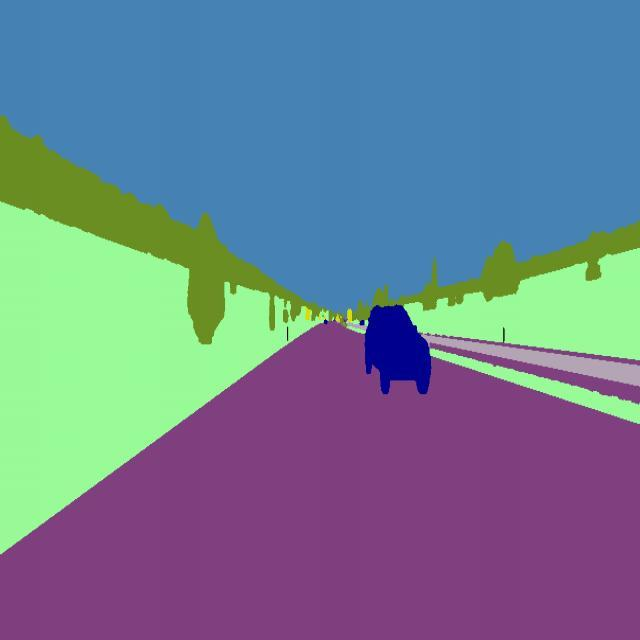safe: (364, 303, 434, 400)
